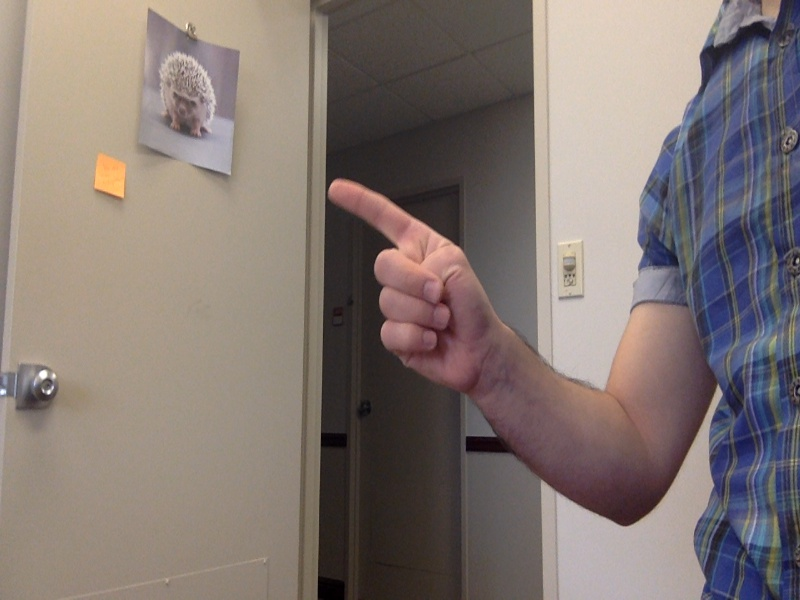1-hand: (326, 175, 485, 396)
